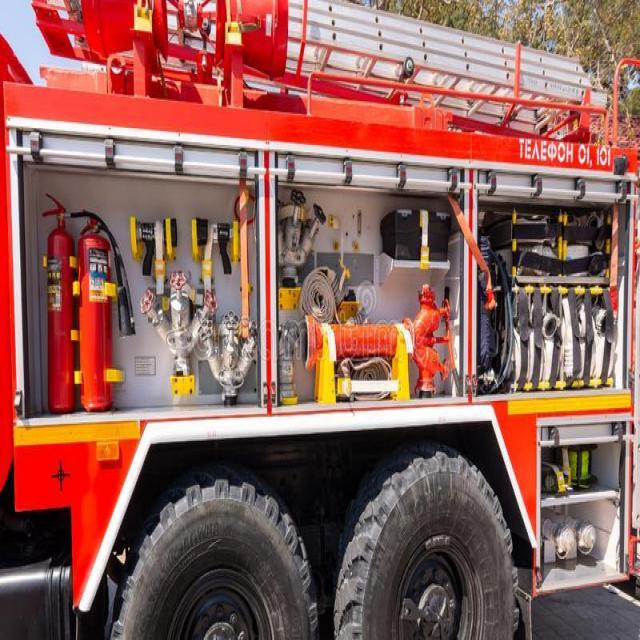fire_extinguisher: (38, 186, 142, 417), (74, 202, 135, 418)
